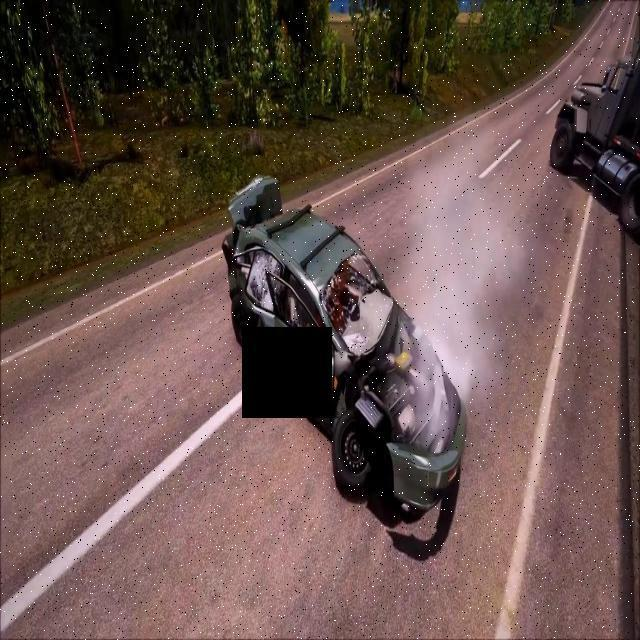multiple_accident: (143, 135, 640, 575)
